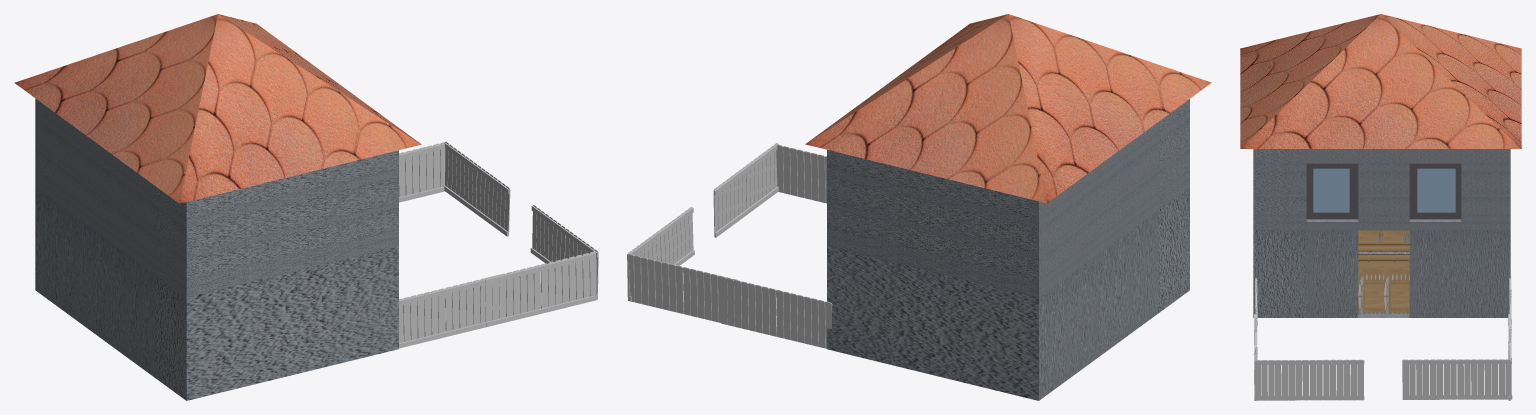
File: haus2_mit_vorgarten.fbx
3 views of the same model, side by side, from view 1: azimuth 30°, elevation 25°; view 2: azimuth 150°, elevation 25°; view 3: azimuth 270°, elevation 25° (orthographic). The views are drawn at different scales.
Visible parts, largest first — view 1: haus, zaun; view 2: haus, zaun; view 3: haus, zaun.
Part boxes in pixels (<box>): haus: <box>14,14,421,400</box>; zaun: <box>399,141,598,348</box>; haus: <box>805,14,1211,400</box>; zaun: <box>627,143,832,348</box>; haus: <box>1240,14,1521,317</box>; zaun: <box>1253,276,1512,400</box>.
Bounding box in the file's own units: 1174 × 1754 × 1200.
11 materials, 3 textured.
